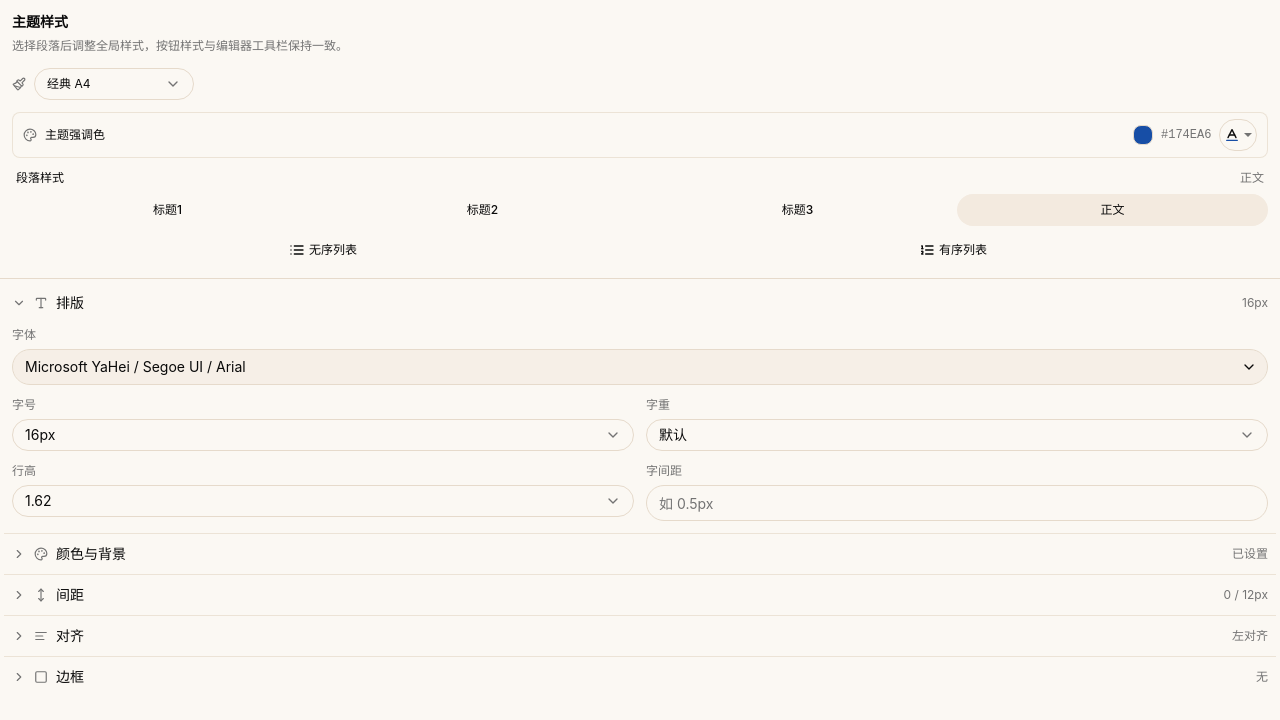
Test: StylePanel › keeps paragraph background and border controls without showing H2 decorations
Click the text "颜色与背景" at (91, 554), box [56,545,126,562]
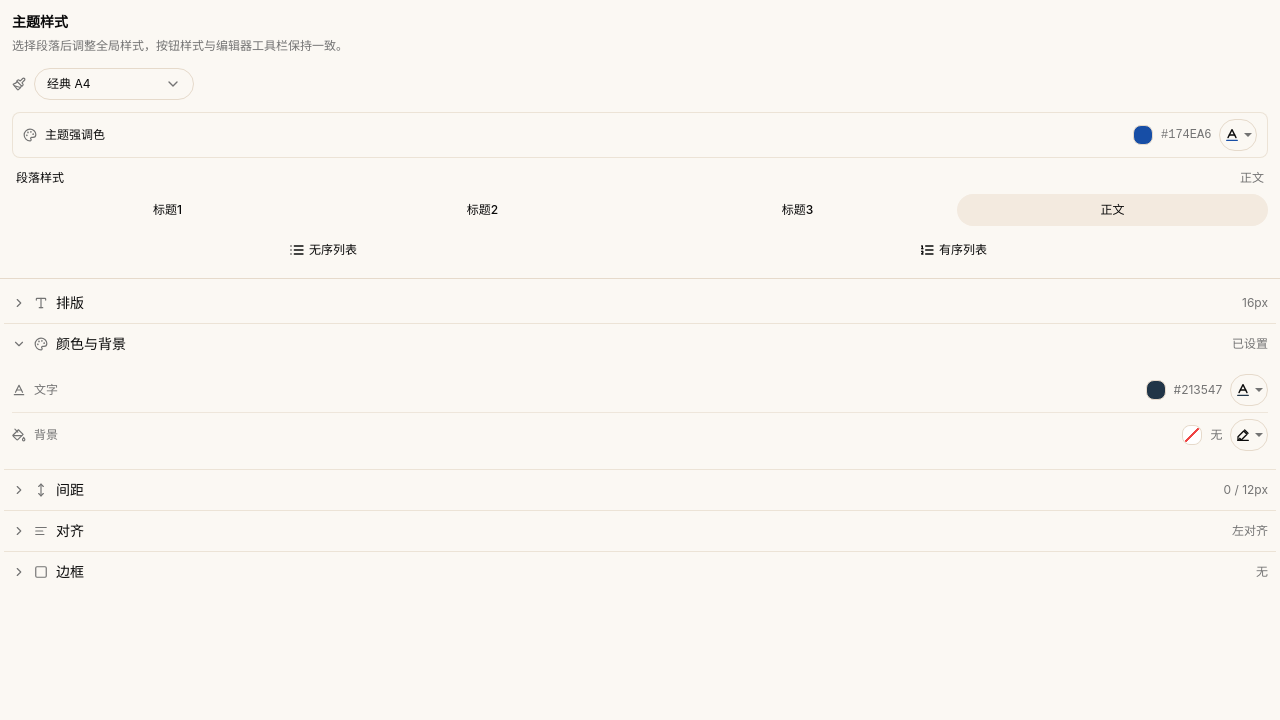
expect the text "边框" is shown: met, box [56,563,84,580]
expect the button named "背景颜色" is shown: met, box [1230,419,1268,451]
